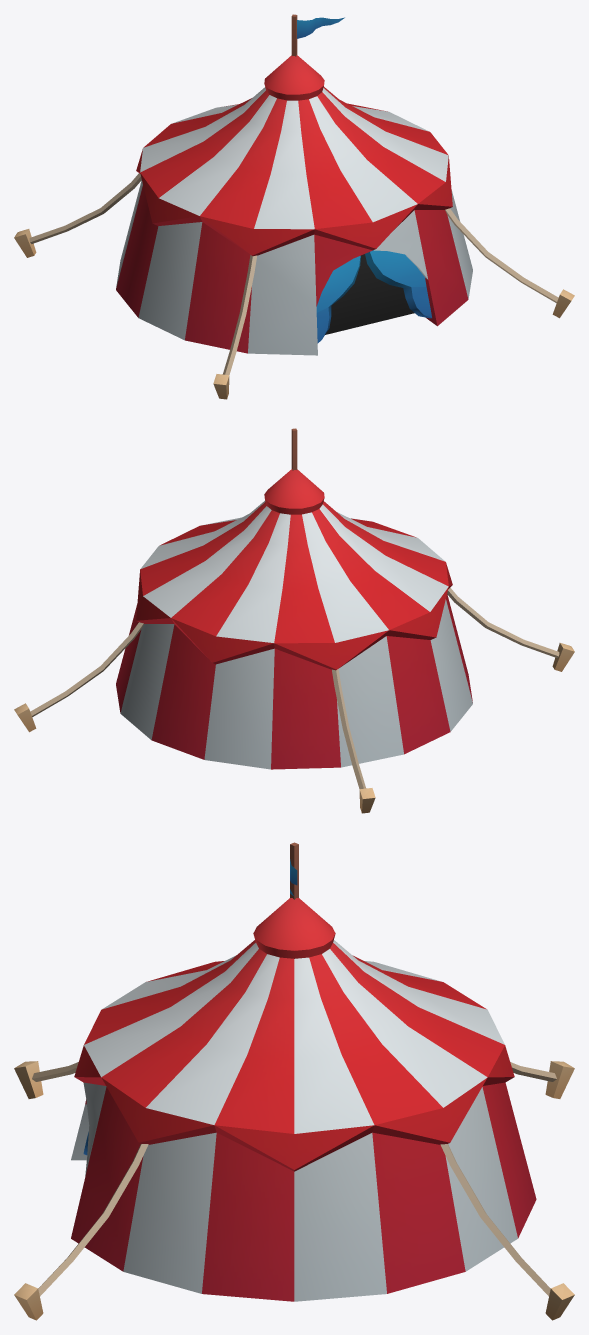
File: circus_tent.glb
The picture shows the model from 3 angles, top to bottom: view 1: azimuth 30°, elevation 25°; view 2: azimuth 150°, elevation 25°; view 3: azimuth 270°, elevation 25°; orthographic projection. The views are drawn at different scales.
Visible parts, largest first — view 1: circus_tent; view 2: circus_tent; view 3: circus_tent.
Part boxes in pixels (x1=…): circus_tent: x1=14, y1=14, x2=574, y2=399; circus_tent: x1=14, y1=428, x2=574, y2=813; circus_tent: x1=14, y1=842, x2=574, y2=1320.
Size of the model in its own units: 3.48 by 2.49 by 3.48.
1 material, 1 textured.
